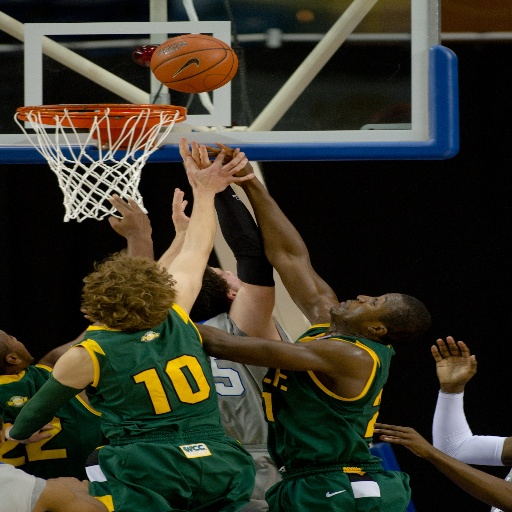hand: (184, 149, 254, 193), (435, 342, 487, 401), (204, 142, 256, 184), (106, 192, 152, 239), (373, 422, 430, 458), (175, 135, 215, 167), (3, 423, 57, 444), (171, 187, 191, 236), (48, 476, 88, 488)
